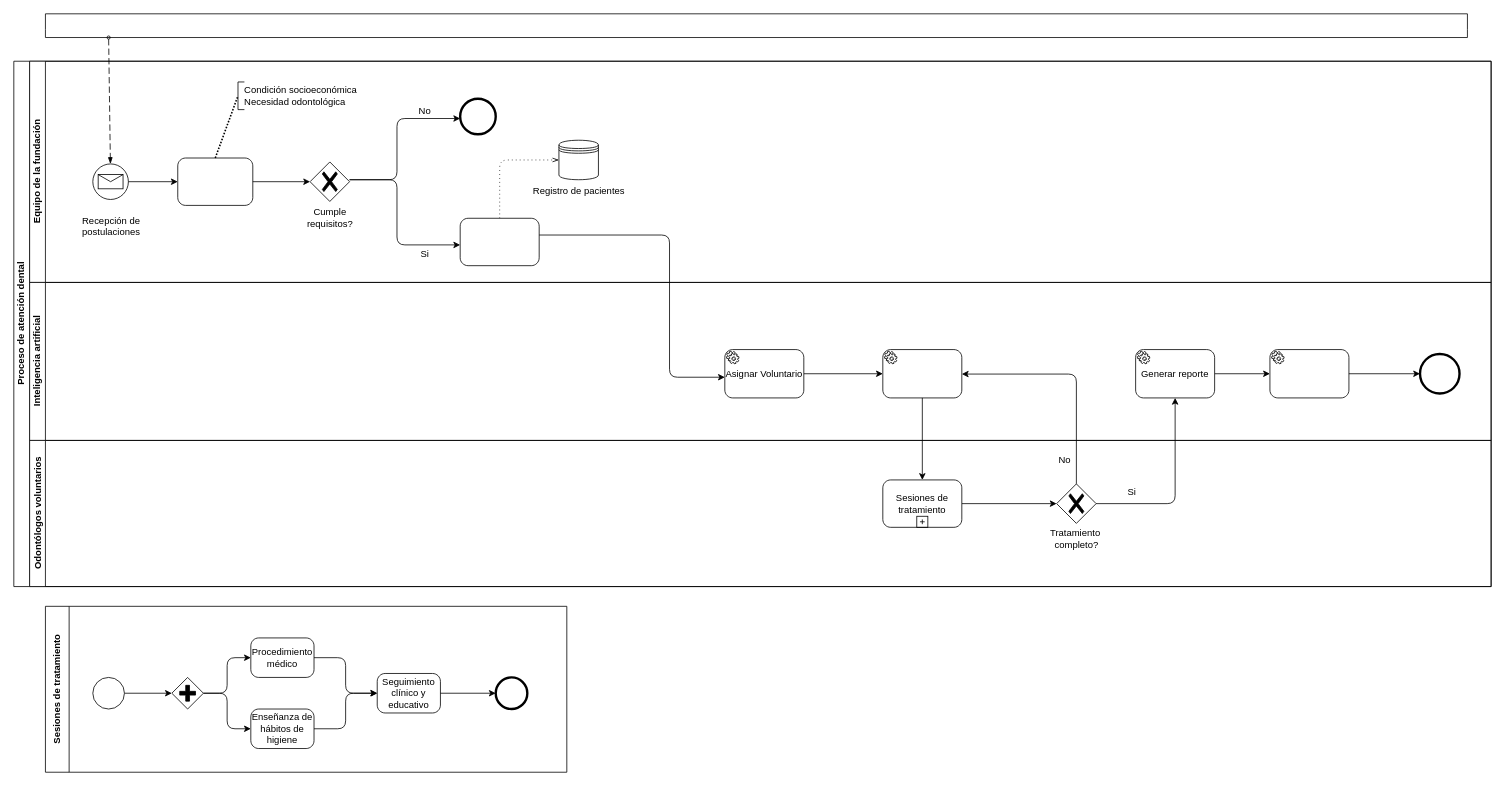
Image size: 1505x786. Some labels were removed from this diagram. Each missing label, with the box of its shape:
Agendar hora: (882, 349, 962, 398)
Crear ficha médica: (459, 217, 539, 266)
Encuesta de satisfacción: (1269, 349, 1349, 398)
Instituciones colaboradoras: (45, 13, 1467, 38)
Verificar requisitos: (177, 157, 253, 205)
